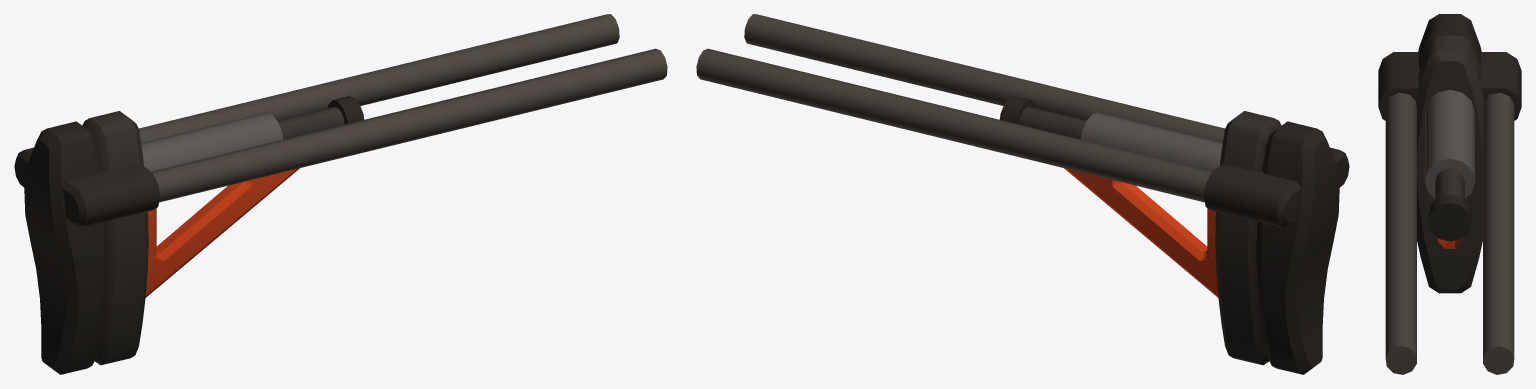
Rendered from SR2_ButtstockHeavy.fbx.
The picture shows the model from 3 angles, left to right: view 1: azimuth 30°, elevation 25°; view 2: azimuth 150°, elevation 25°; view 3: azimuth 270°, elevation 25°; orthographic projection.
Parts seen in each view (by area): view 1: SR2_ButtstockHeavy; view 2: SR2_ButtstockHeavy; view 3: SR2_ButtstockHeavy.
Boxes of the visible parts, left/top/right/bottom form: SR2_ButtstockHeavy: left=14, top=14, right=667, bottom=374; SR2_ButtstockHeavy: left=696, top=14, right=1349, bottom=374; SR2_ButtstockHeavy: left=1378, top=14, right=1521, bottom=374.
Bounding box in the file's own units: 49.3 × 18.88 × 10.08.
